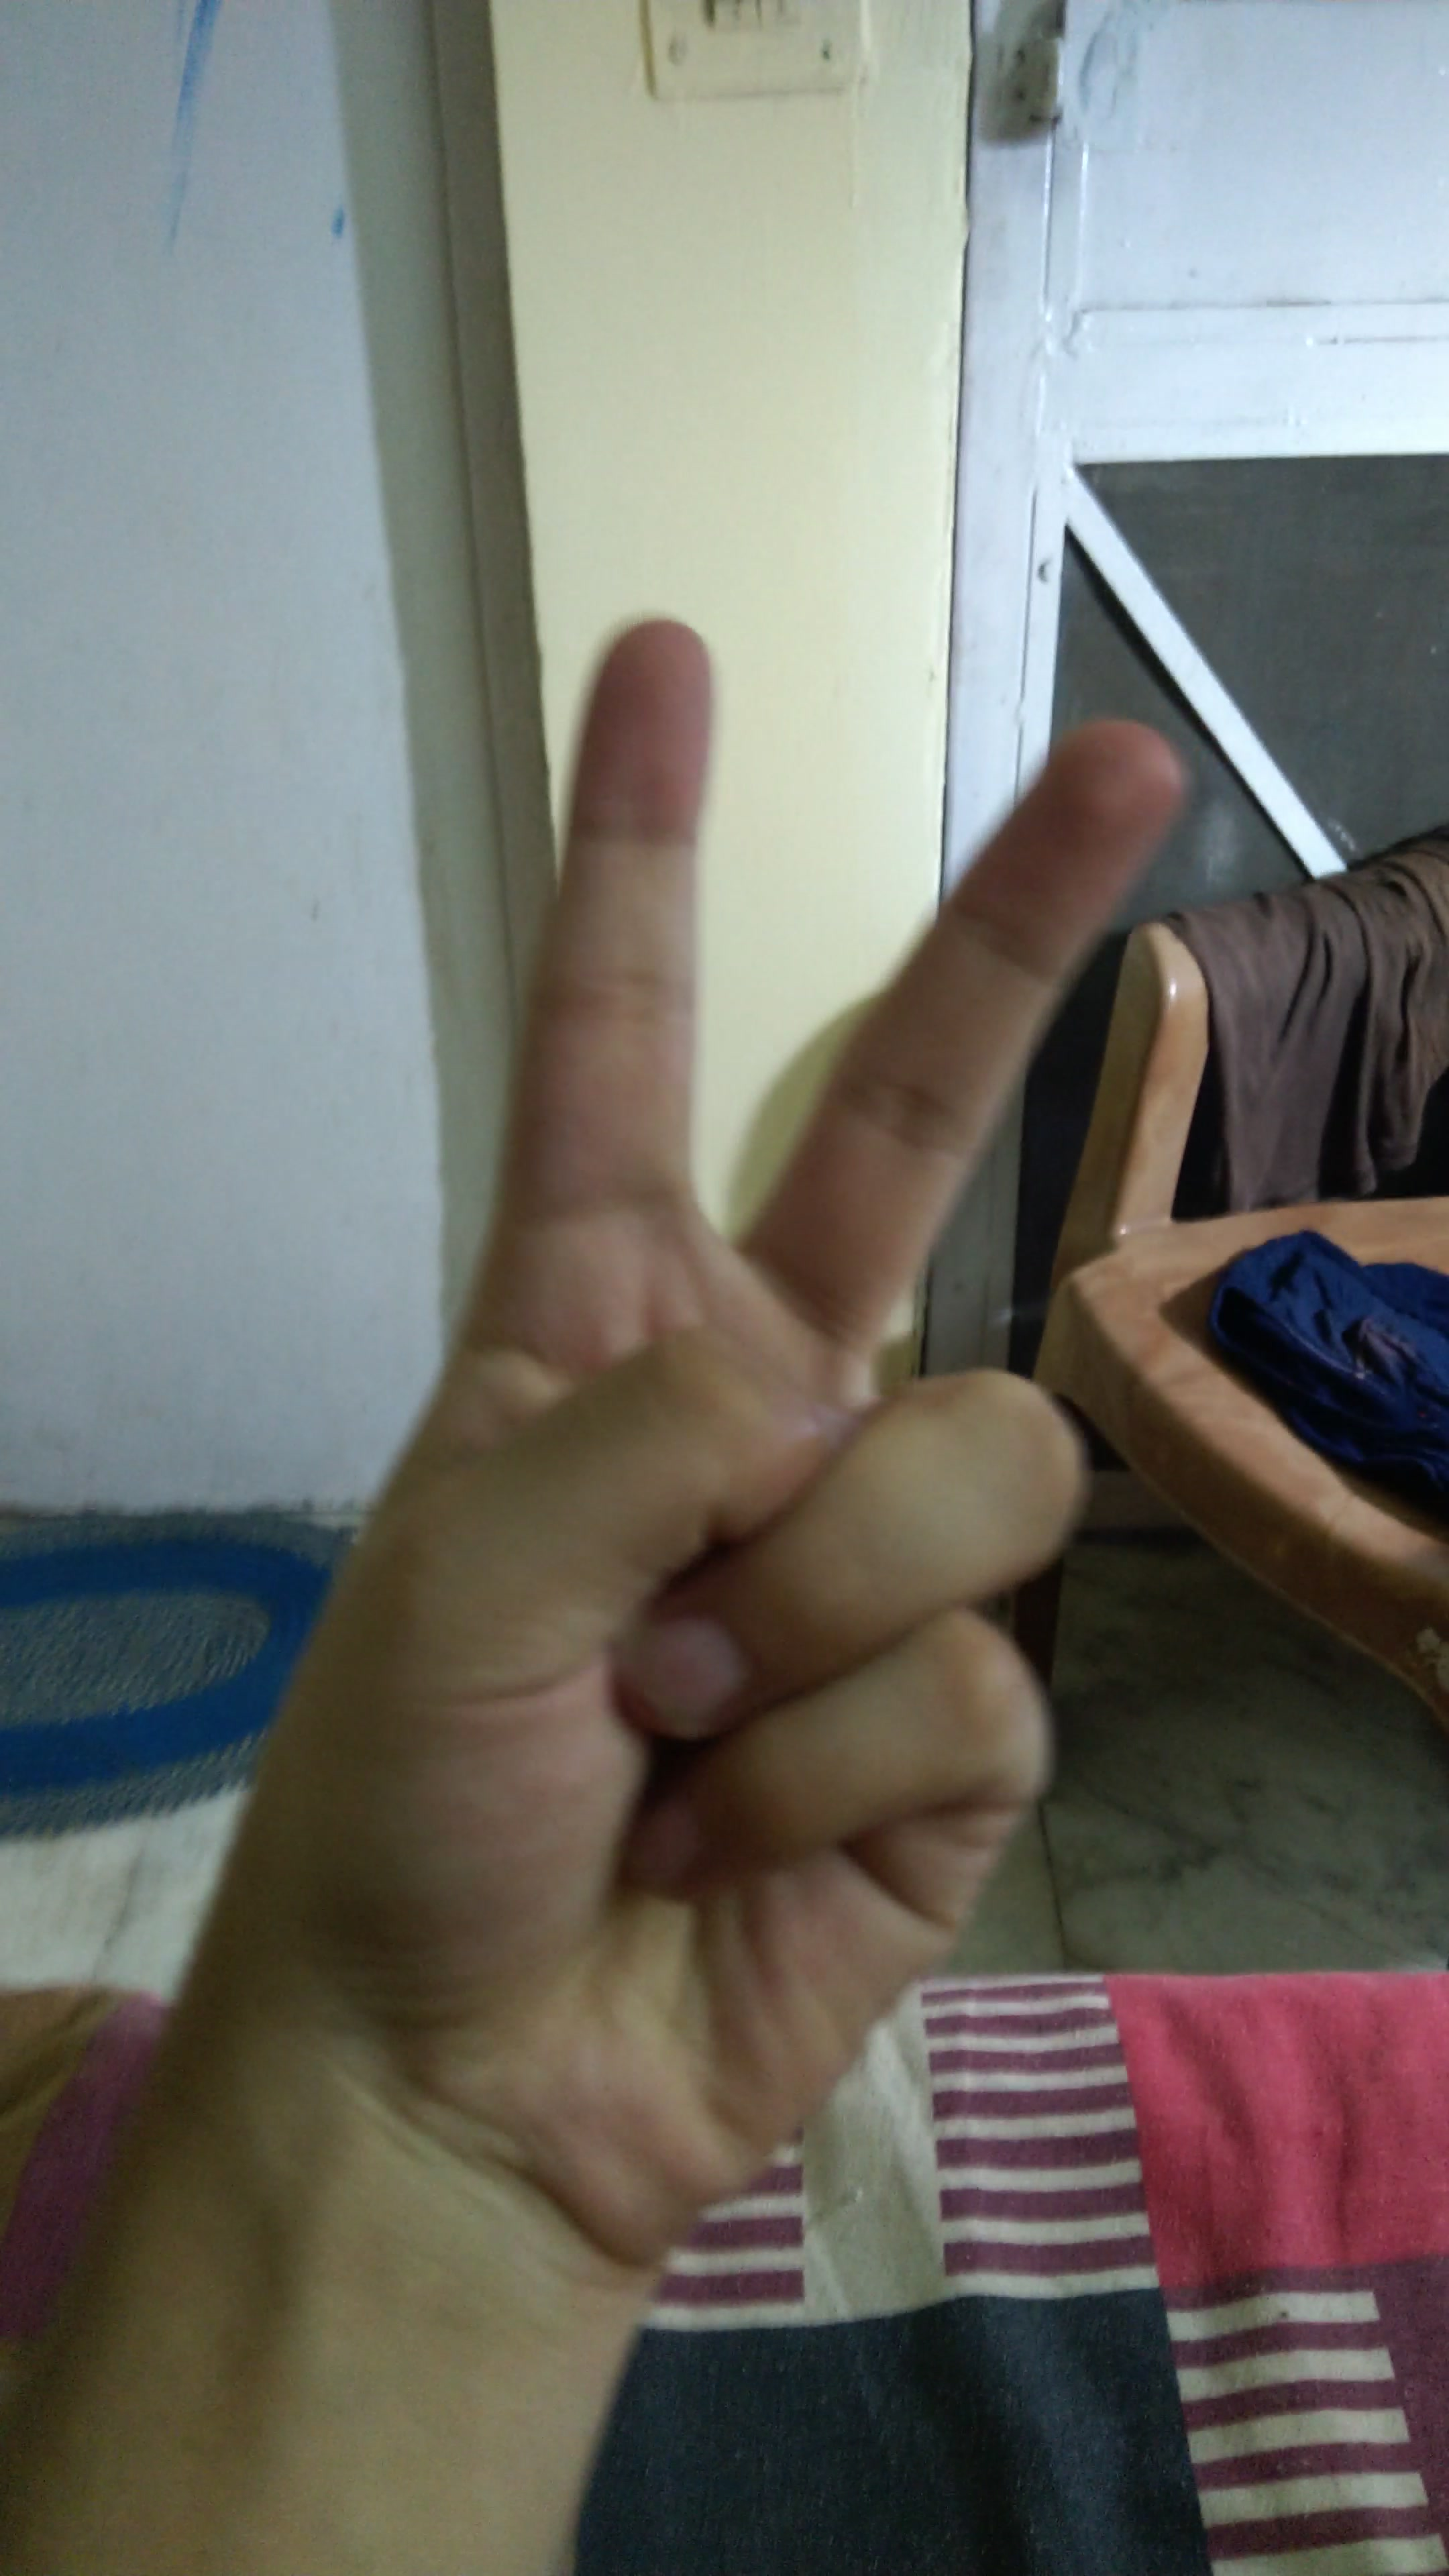hand: (165, 580, 1242, 2381)
